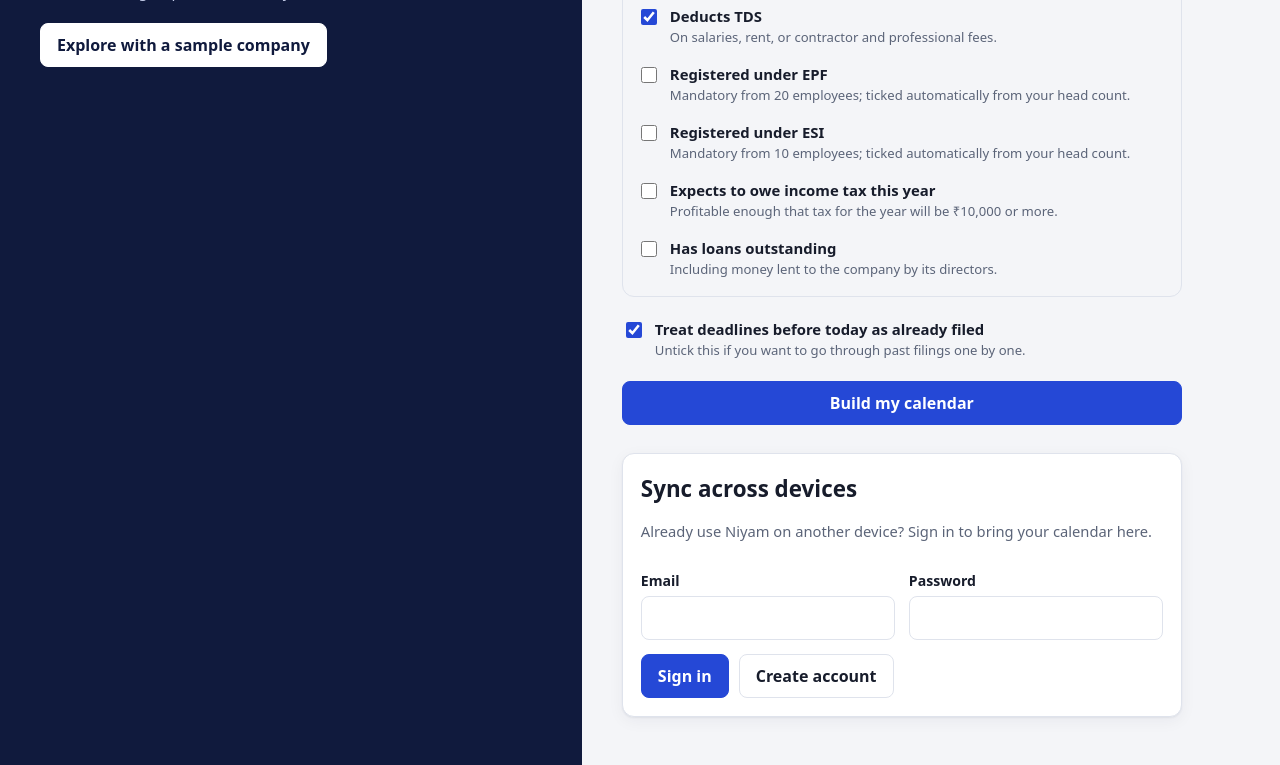
it: onboarding › shows validation errors and stays on the form when submitted empty
The width and height of the screenshot is (1280, 765).
(page scrolled)
Click the button "Build my calendar". click: [902, 403]
box: x1=622 y1=381 x2=1182 y2=425
(page scrolled)
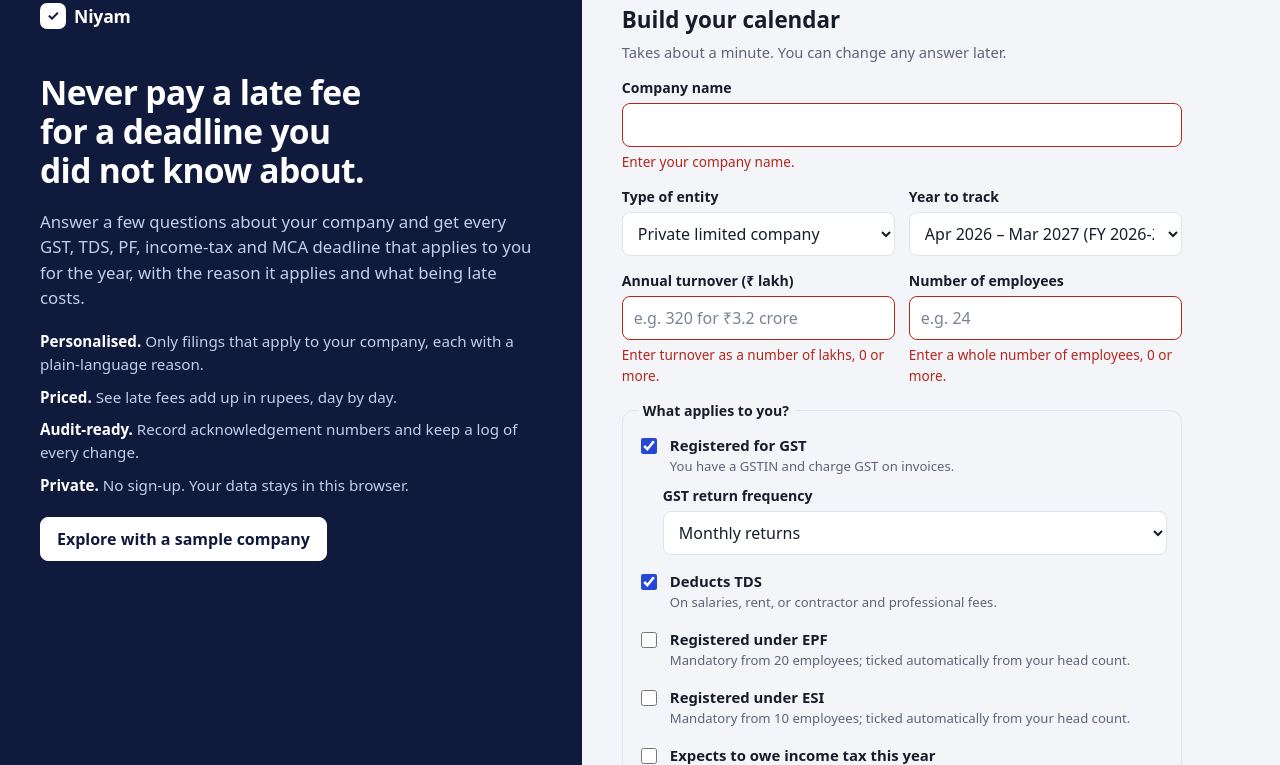
Expected: the text "Enter your company name." is shown, x1=622 y1=152 x2=795 y2=171
Expected: the text "Enter turnover as a number of lakhs, 0 or more." is shown, x1=622 y1=345 x2=895 y2=386
Expected: the text "Enter a whole number of employees, 0 or more." is shown, x1=909 y1=345 x2=1182 y2=386
